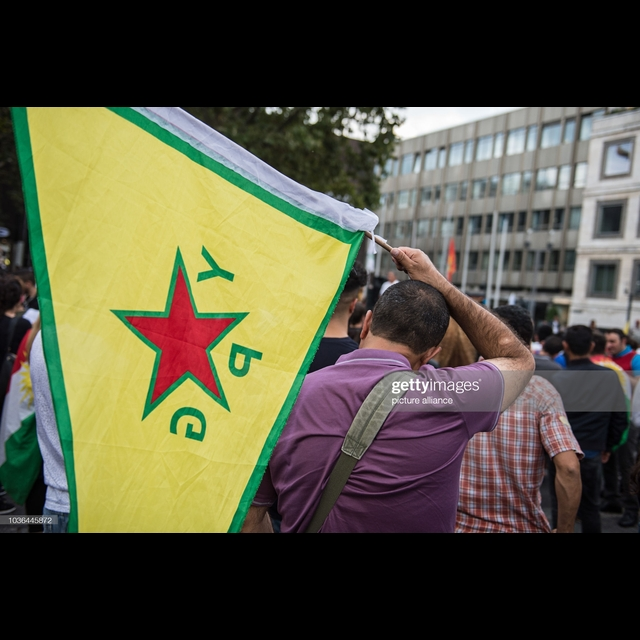YPG: (104, 238, 266, 452)
